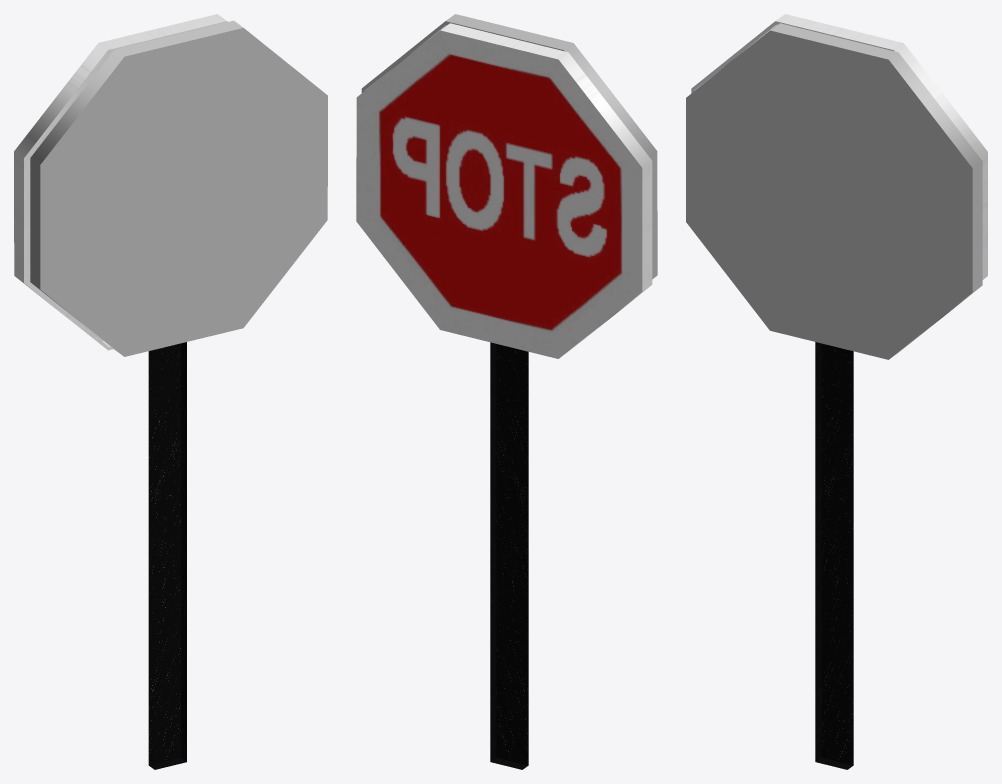
File: StopSign.obj
3 views of the same model, side by side, from view 1: azimuth 30°, elevation 25°; view 2: azimuth 150°, elevation 25°; view 3: azimuth 330°, elevation 25° (orthographic).
Parts seen in each view (by area): view 1: STOP_0.000_STOP_0.002, STOPALLM_1, STOP_0.001; view 2: STOP_0.001, STOPALLM_1, STOP_0.000_STOP_0.002; view 3: STOP_0.000_STOP_0.002, STOPALLM_1, STOP_0.001.
Boxes of the visible parts, left/top/right/bottom form: STOP_0.000_STOP_0.002: left=30, top=20, right=327, bottom=356; STOPALLM_1: left=148, top=342, right=186, bottom=769; STOP_0.001: left=14, top=14, right=227, bottom=350; STOP_0.001: left=356, top=23, right=652, bottom=358; STOPALLM_1: left=490, top=342, right=528, bottom=769; STOP_0.000_STOP_0.002: left=361, top=14, right=657, bottom=279; STOP_0.000_STOP_0.002: left=686, top=23, right=982, bottom=359; STOPALLM_1: left=815, top=342, right=853, bottom=769; STOP_0.001: left=691, top=14, right=987, bottom=279.
Bounding box in the file's own units: 5.08 × 12.09 × 0.6384.
Materials: 3 (2 with a texture image).
